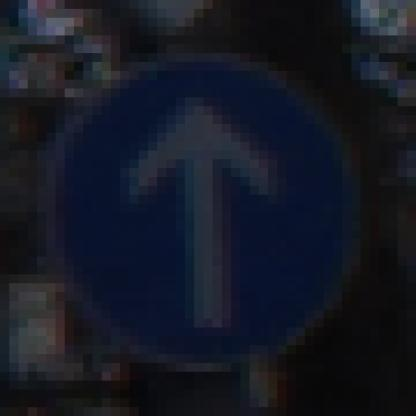AheadOnly: (47, 45, 371, 373)
